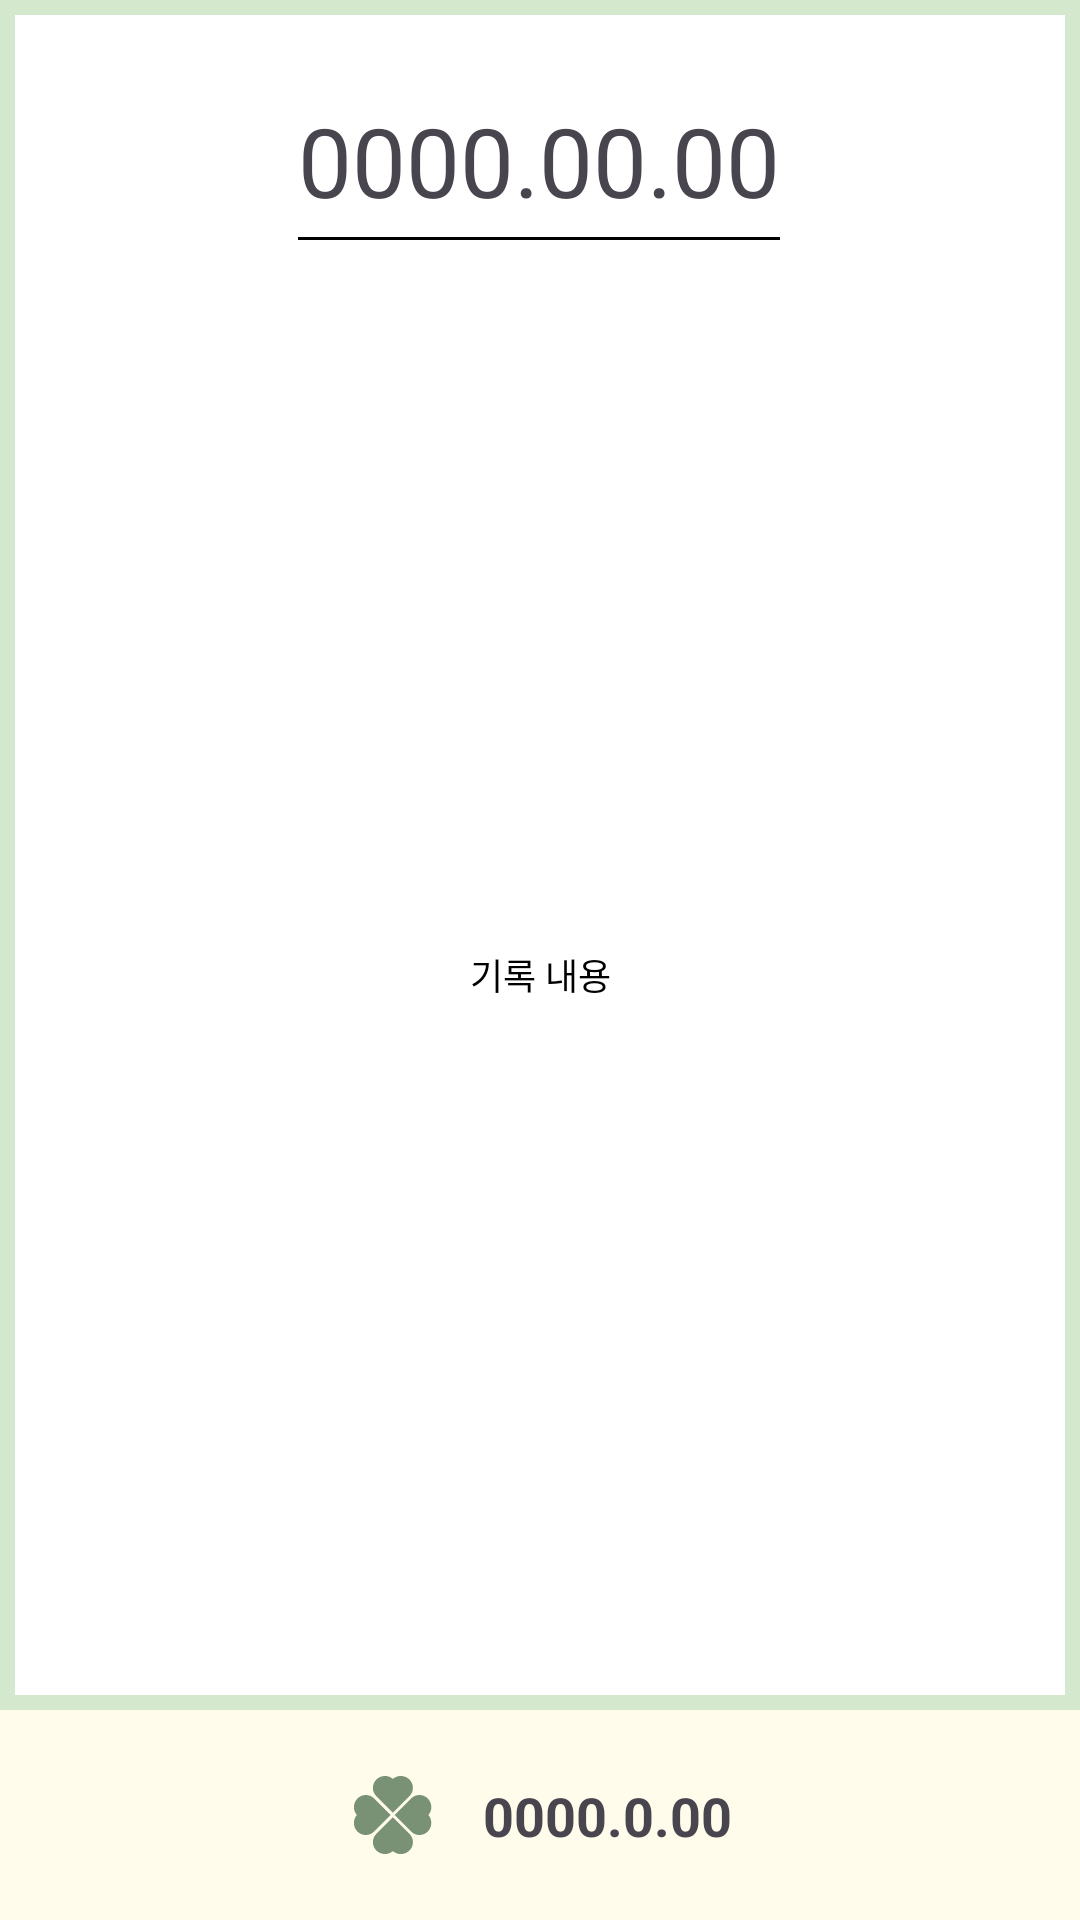

Screen size 1080 × 1920. Icon name, then its center in pixels as [x,y]:
메모 가격 앞에 표시된 클로버 아이콘: [393,1815]
